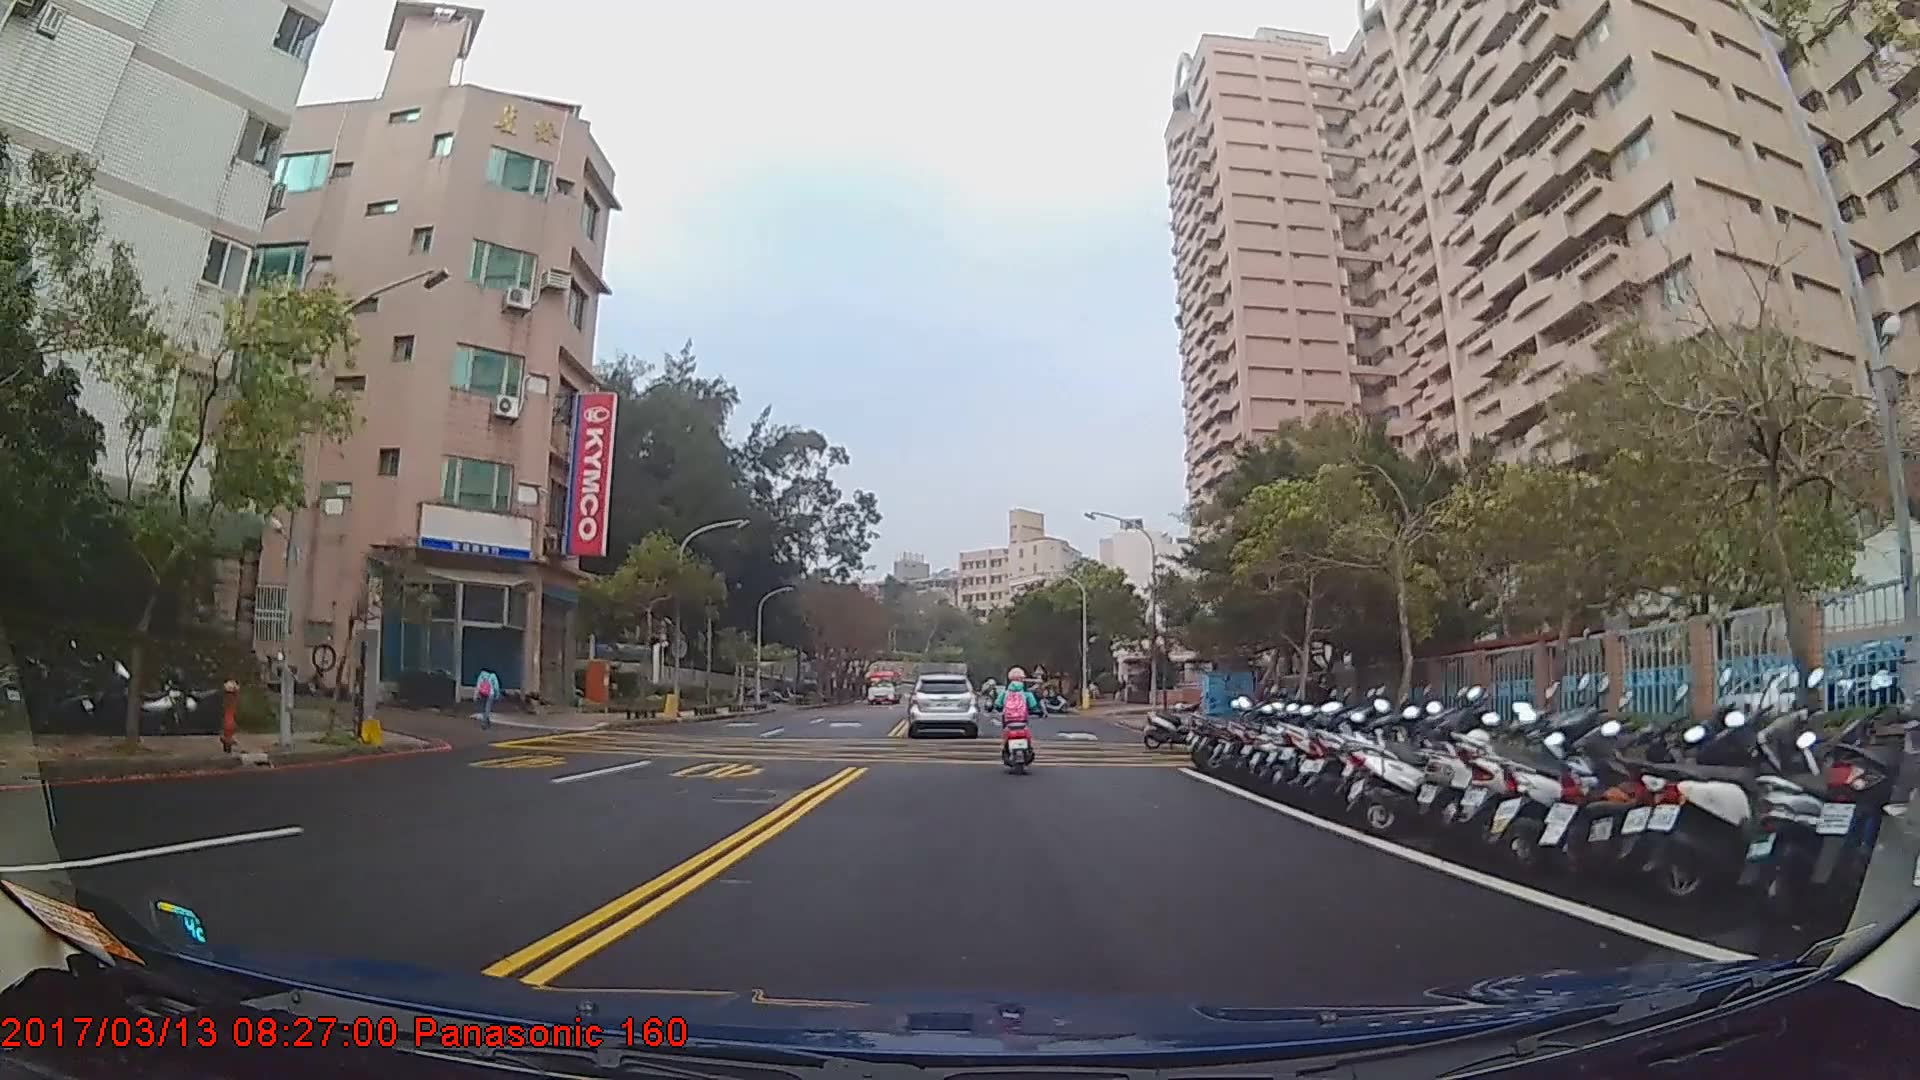pedestrian: (477, 659, 502, 732)
rider: (991, 666, 1042, 783)
vehicle: (907, 670, 976, 736), (863, 666, 904, 704)
